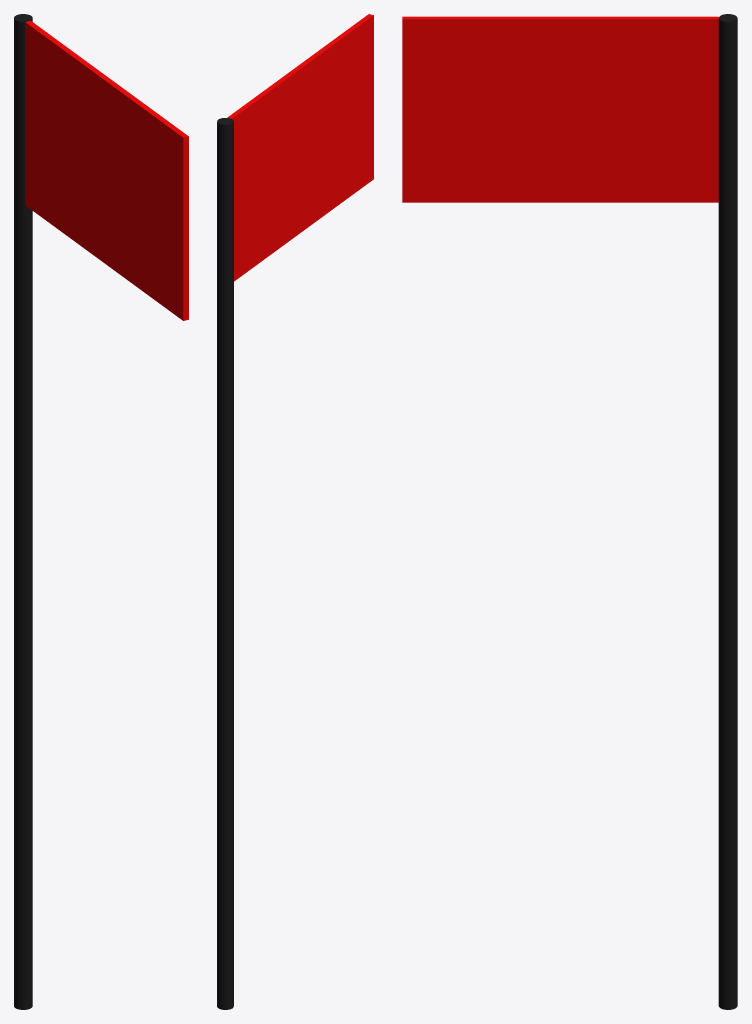
Rendered from Flag.obj.
3 views of the same model, side by side, from view 1: azimuth 30°, elevation 25°; view 2: azimuth 150°, elevation 25°; view 3: azimuth 270°, elevation 25° (orthographic). The views are drawn at different scales.
Parts seen in each view (by area): view 1: Level_Models:pCylinder25; view 2: Level_Models:pCylinder25; view 3: Level_Models:pCylinder25.
Part boxes in pixels (bbox=[...]): Level_Models:pCylinder25: bbox=[14, 14, 188, 1009]; Level_Models:pCylinder25: bbox=[217, 14, 373, 1009]; Level_Models:pCylinder25: bbox=[402, 14, 737, 1009].
Bounding box in the file's own units: 0.0378 × 2.19 × 0.6746.
